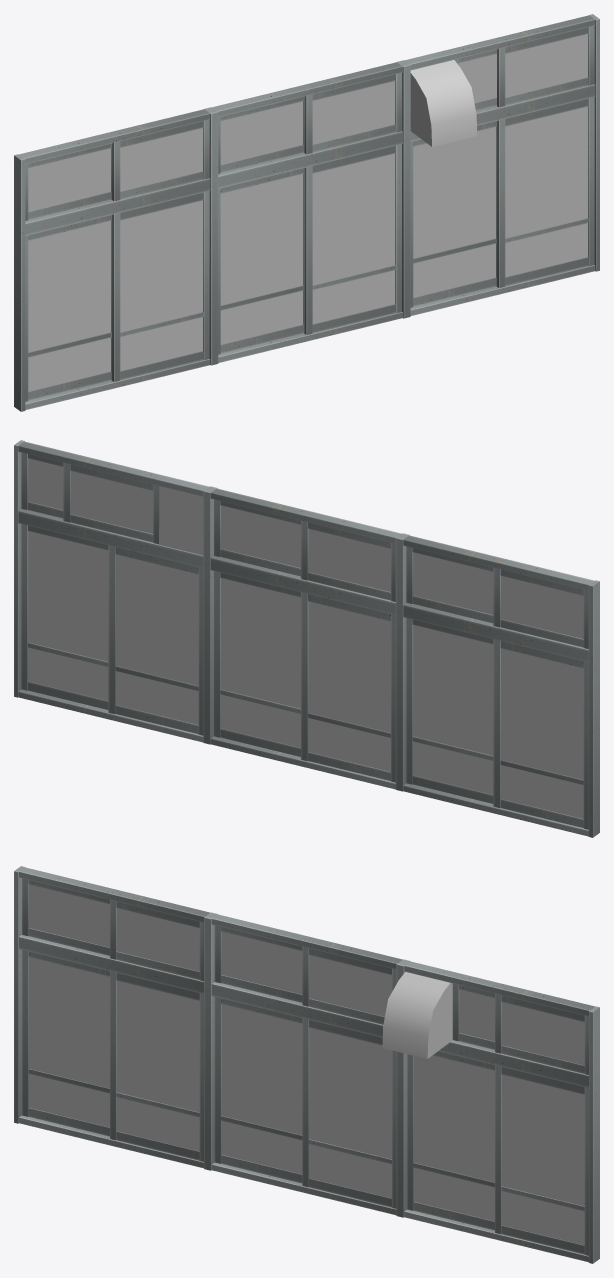
File: bil_window_b2_4b.fbx
The picture shows the model from 3 angles, top to bottom: view 1: azimuth 30°, elevation 25°; view 2: azimuth 150°, elevation 25°; view 3: azimuth 330°, elevation 25°; orthographic projection.
Visible parts, largest first — view 1: bil_window_b2_4b; view 2: bil_window_b2_4b; view 3: bil_window_b2_4b.
Part boxes in pixels (x1,y1,x2,y2): bil_window_b2_4b: (14,14,599,411); bil_window_b2_4b: (14,440,599,837); bil_window_b2_4b: (14,866,599,1263).
Bounding box in the file's own units: 547 × 227 × 46.55.
